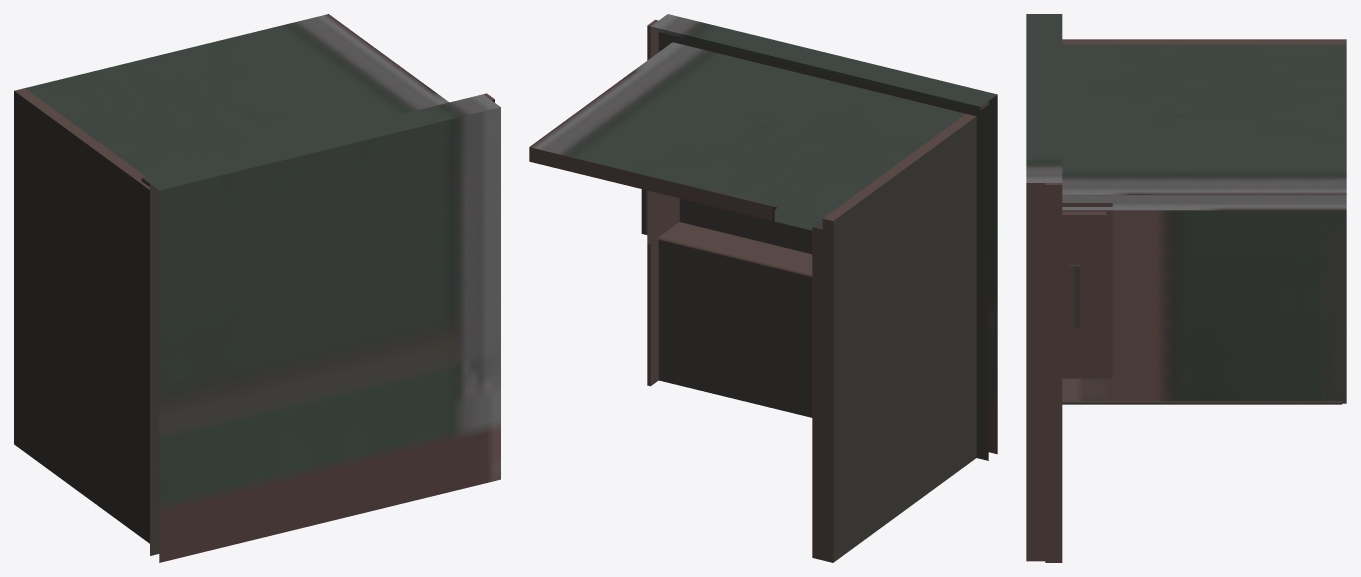
File: section-2.obj
The picture shows the model from 3 angles, left to right: view 1: azimuth 30°, elevation 25°; view 2: azimuth 150°, elevation 25°; view 3: azimuth 270°, elevation 25°; orthographic projection. The views are drawn at different scales.
Size of the model in its own units: 0.96 by 0.99 by 0.76.
